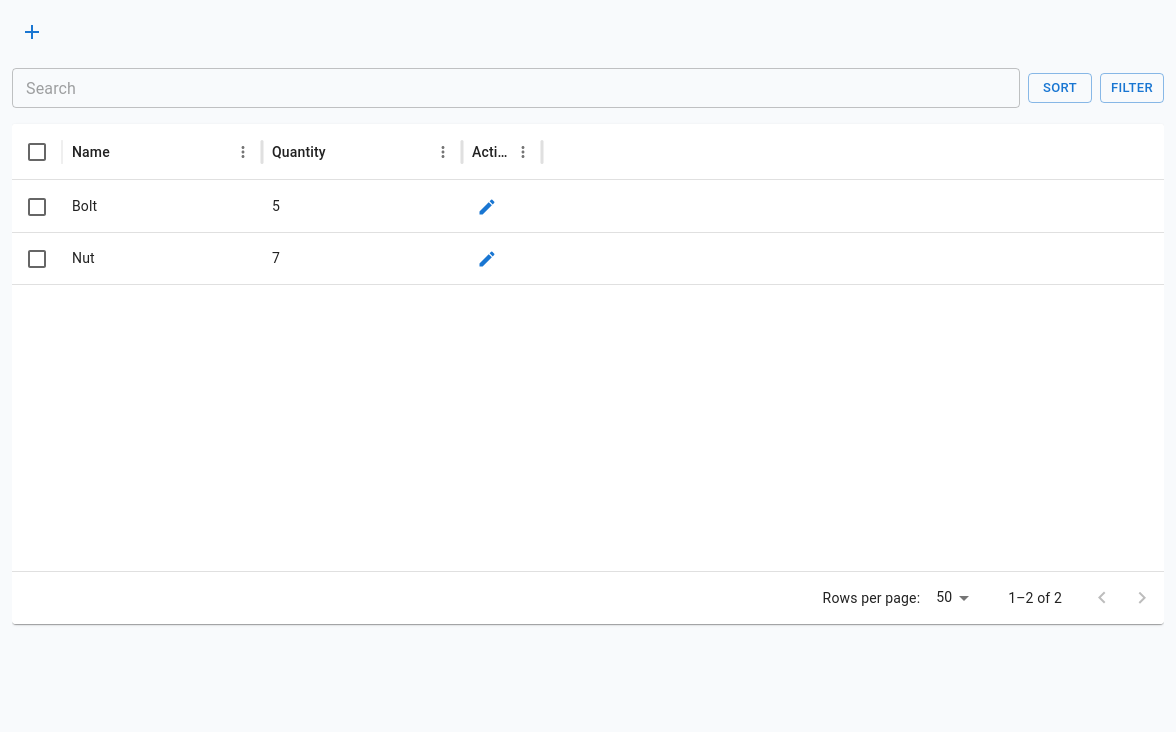
Test: list search panel on a desktop viewport › keeps the rows of the latest query when an earlier one answers last
Click the button with test id "list-sort-toggle".
click(1060, 88)  # box left=1028, top=73, right=1092, bottom=103
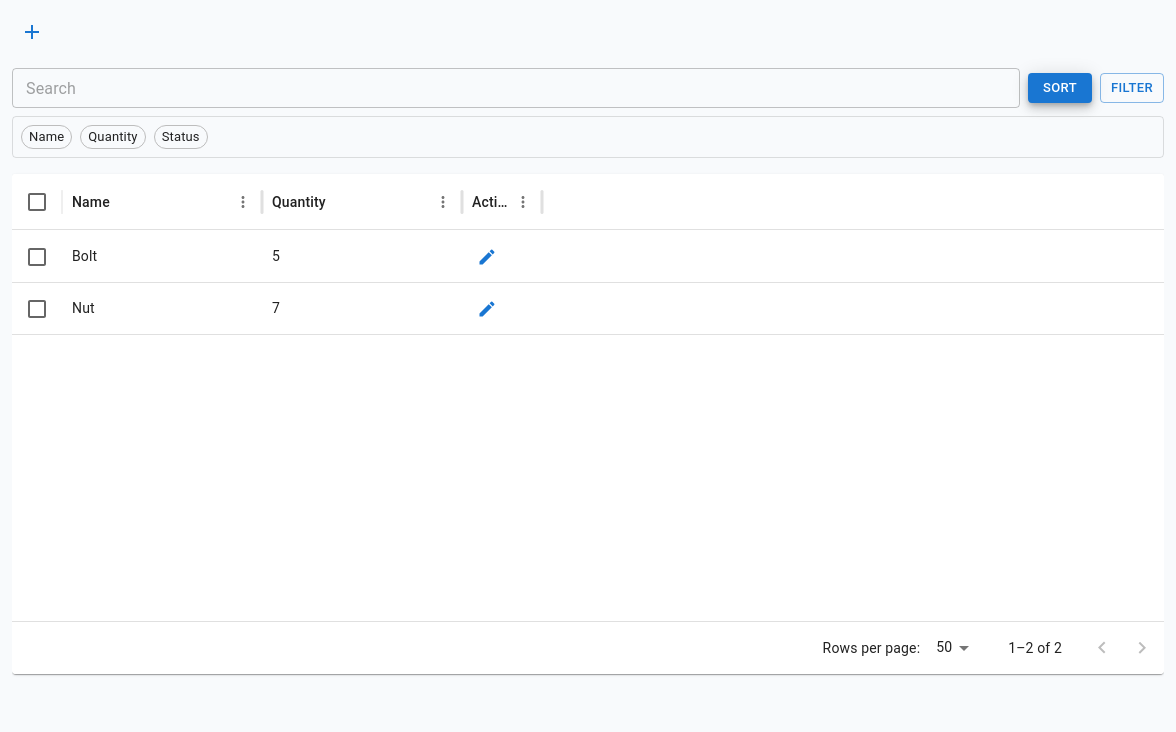
Click the button with test id "list-sort-name".
click(47, 137)  # box left=21, top=125, right=72, bottom=149
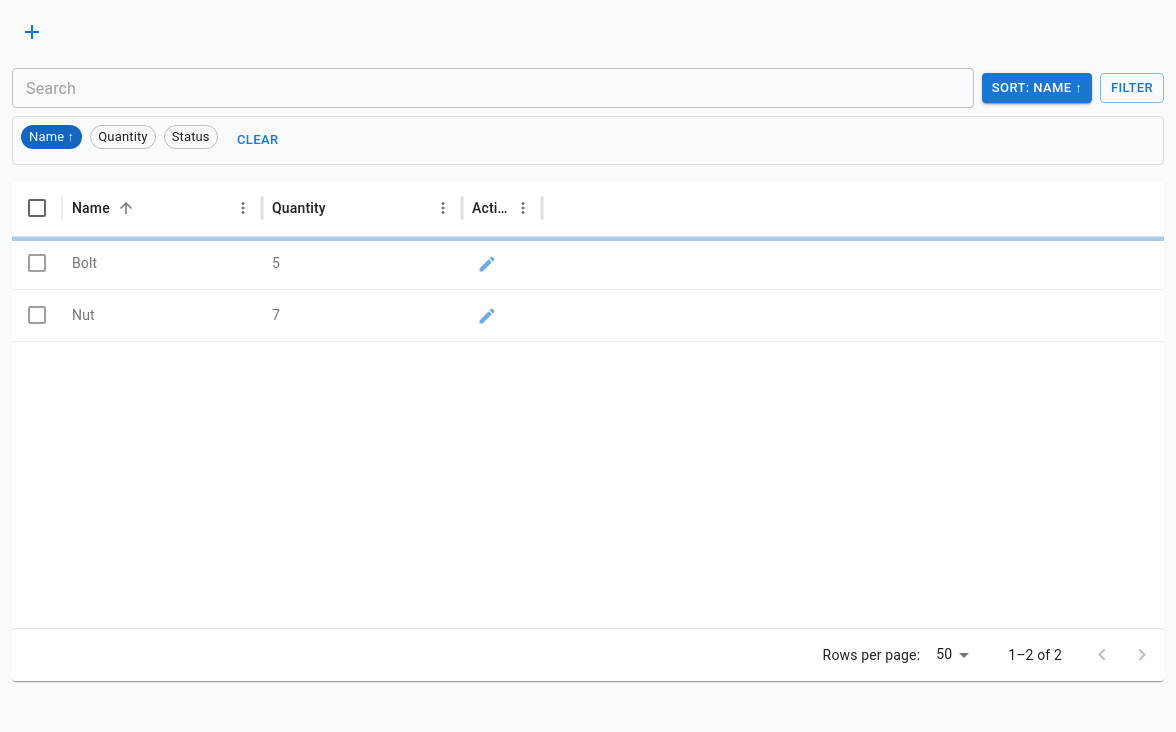
Click the button with test id "list-sort-qty".
click(123, 137)  # box left=90, top=125, right=156, bottom=149
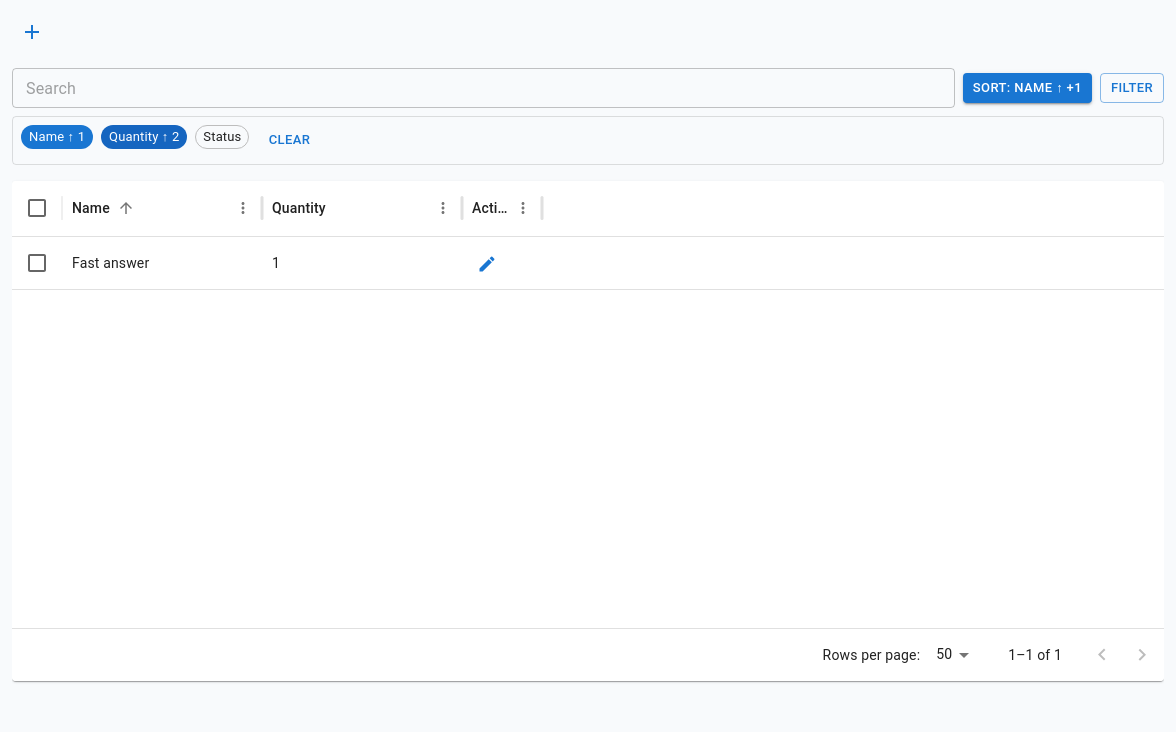
expect the text "Fast answer" is shown: met, box left=72, top=255, right=149, bottom=271
